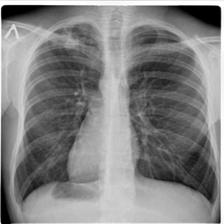tuberculosis: (11, 16, 220, 214)
